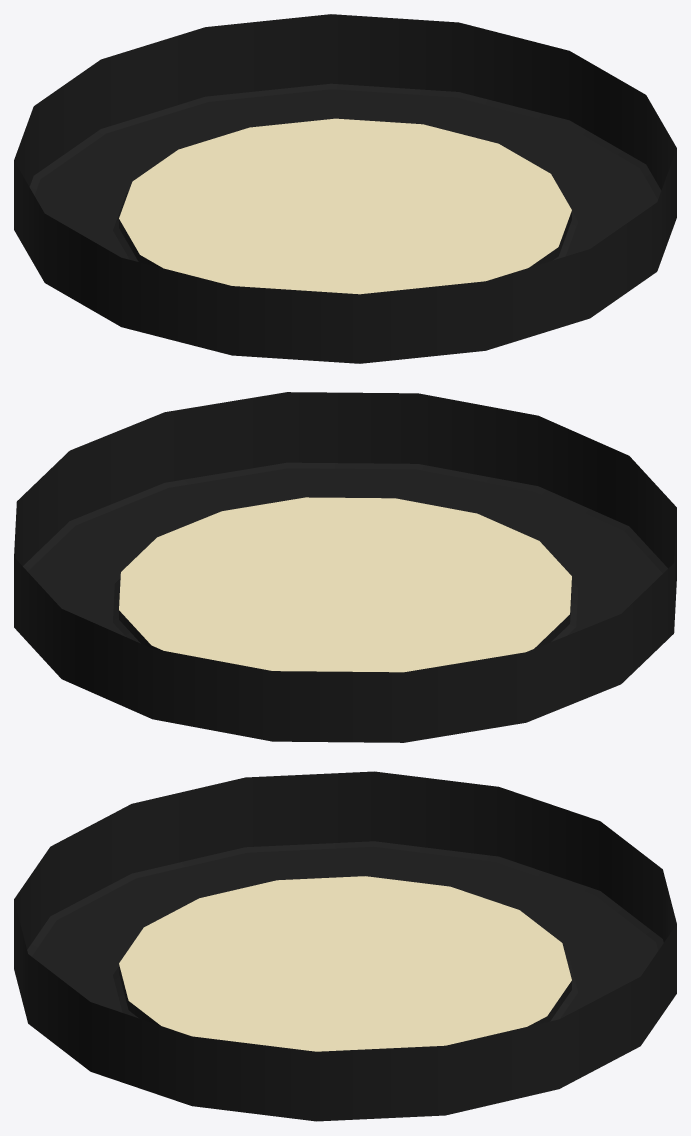
File: CylinderLight.fbx
3 views of the same model, one above another, from view 1: azimuth 30°, elevation 25°; view 2: azimuth 150°, elevation 25°; view 3: azimuth 270°, elevation 25° (orthographic).
Parts seen in each view (by area): view 1: CylinderLight; view 2: CylinderLight; view 3: CylinderLight.
Part boxes in pixels (<box>): CylinderLight: <box>14,14,676,363</box>; CylinderLight: <box>14,392,676,742</box>; CylinderLight: <box>14,771,676,1121</box>.
Size of the model in its own units: 56.95 by 6.84 by 56.94.
1 material, 1 textured.
